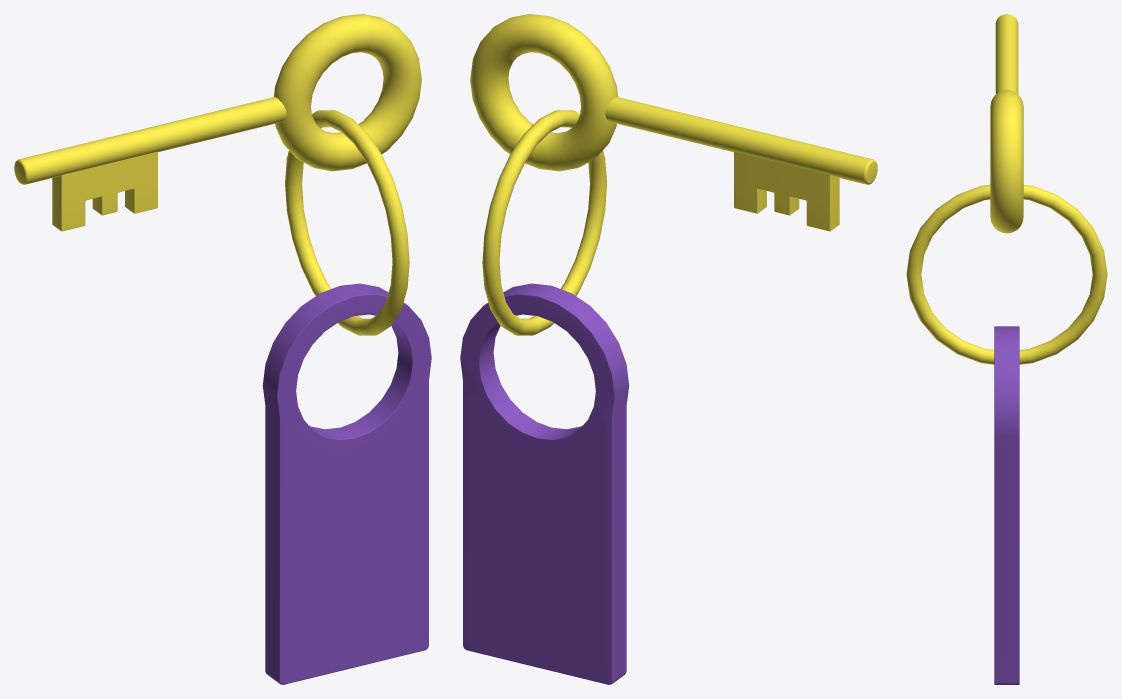
The model's file is Public_7_Key_2.glb.
3 renders of one model, left to right at view 1: azimuth 30°, elevation 25°; view 2: azimuth 150°, elevation 25°; view 3: azimuth 270°, elevation 25°, orthographic. The views are drawn at different scales.
Visible parts, largest first — view 1: Public_7_Key_2; view 2: Public_7_Key_2; view 3: Public_7_Key_2.
Boxes of the visible parts, box(x1,y1,x2,y2) form: Public_7_Key_2: box(14, 14, 431, 684); Public_7_Key_2: box(460, 14, 877, 684); Public_7_Key_2: box(906, 14, 1107, 684).
Bounding box in the file's own units: 1.59 × 2.43 × 0.792.
Materials: 1 (1 with a texture image).
